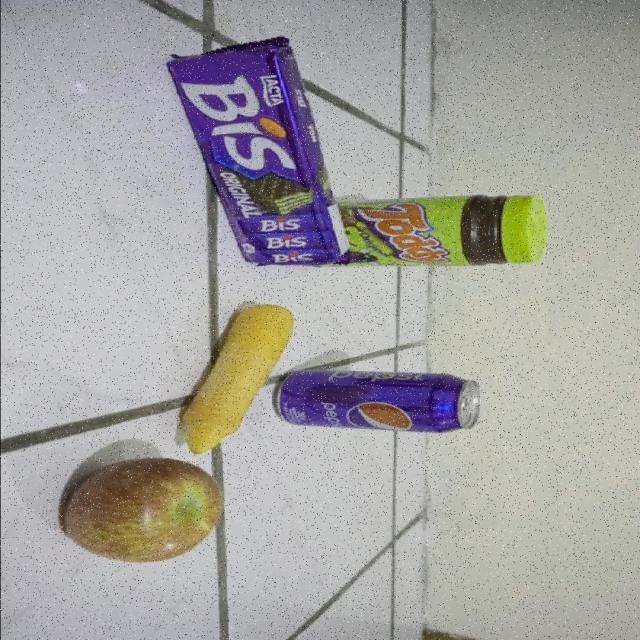Apple: (56, 460, 237, 568)
Carrot: (166, 301, 281, 456)
ChocolatePowder: (353, 193, 548, 270)
SodaCan: (284, 370, 483, 429)
